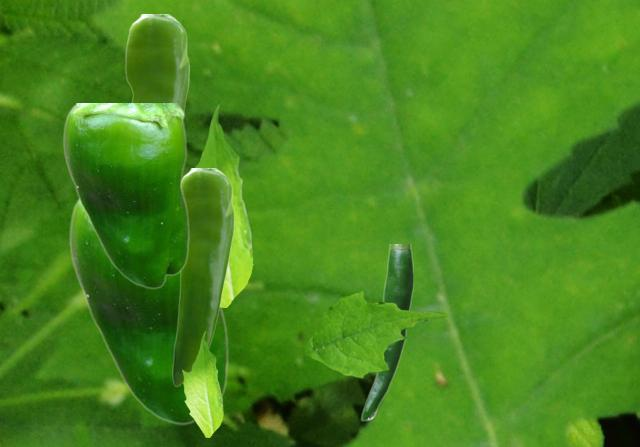green_chili: (68, 196, 227, 424), (62, 103, 188, 288), (172, 168, 233, 385), (360, 244, 412, 420), (124, 14, 188, 111)
